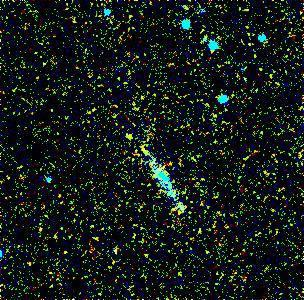star: (118, 122, 148, 152)
